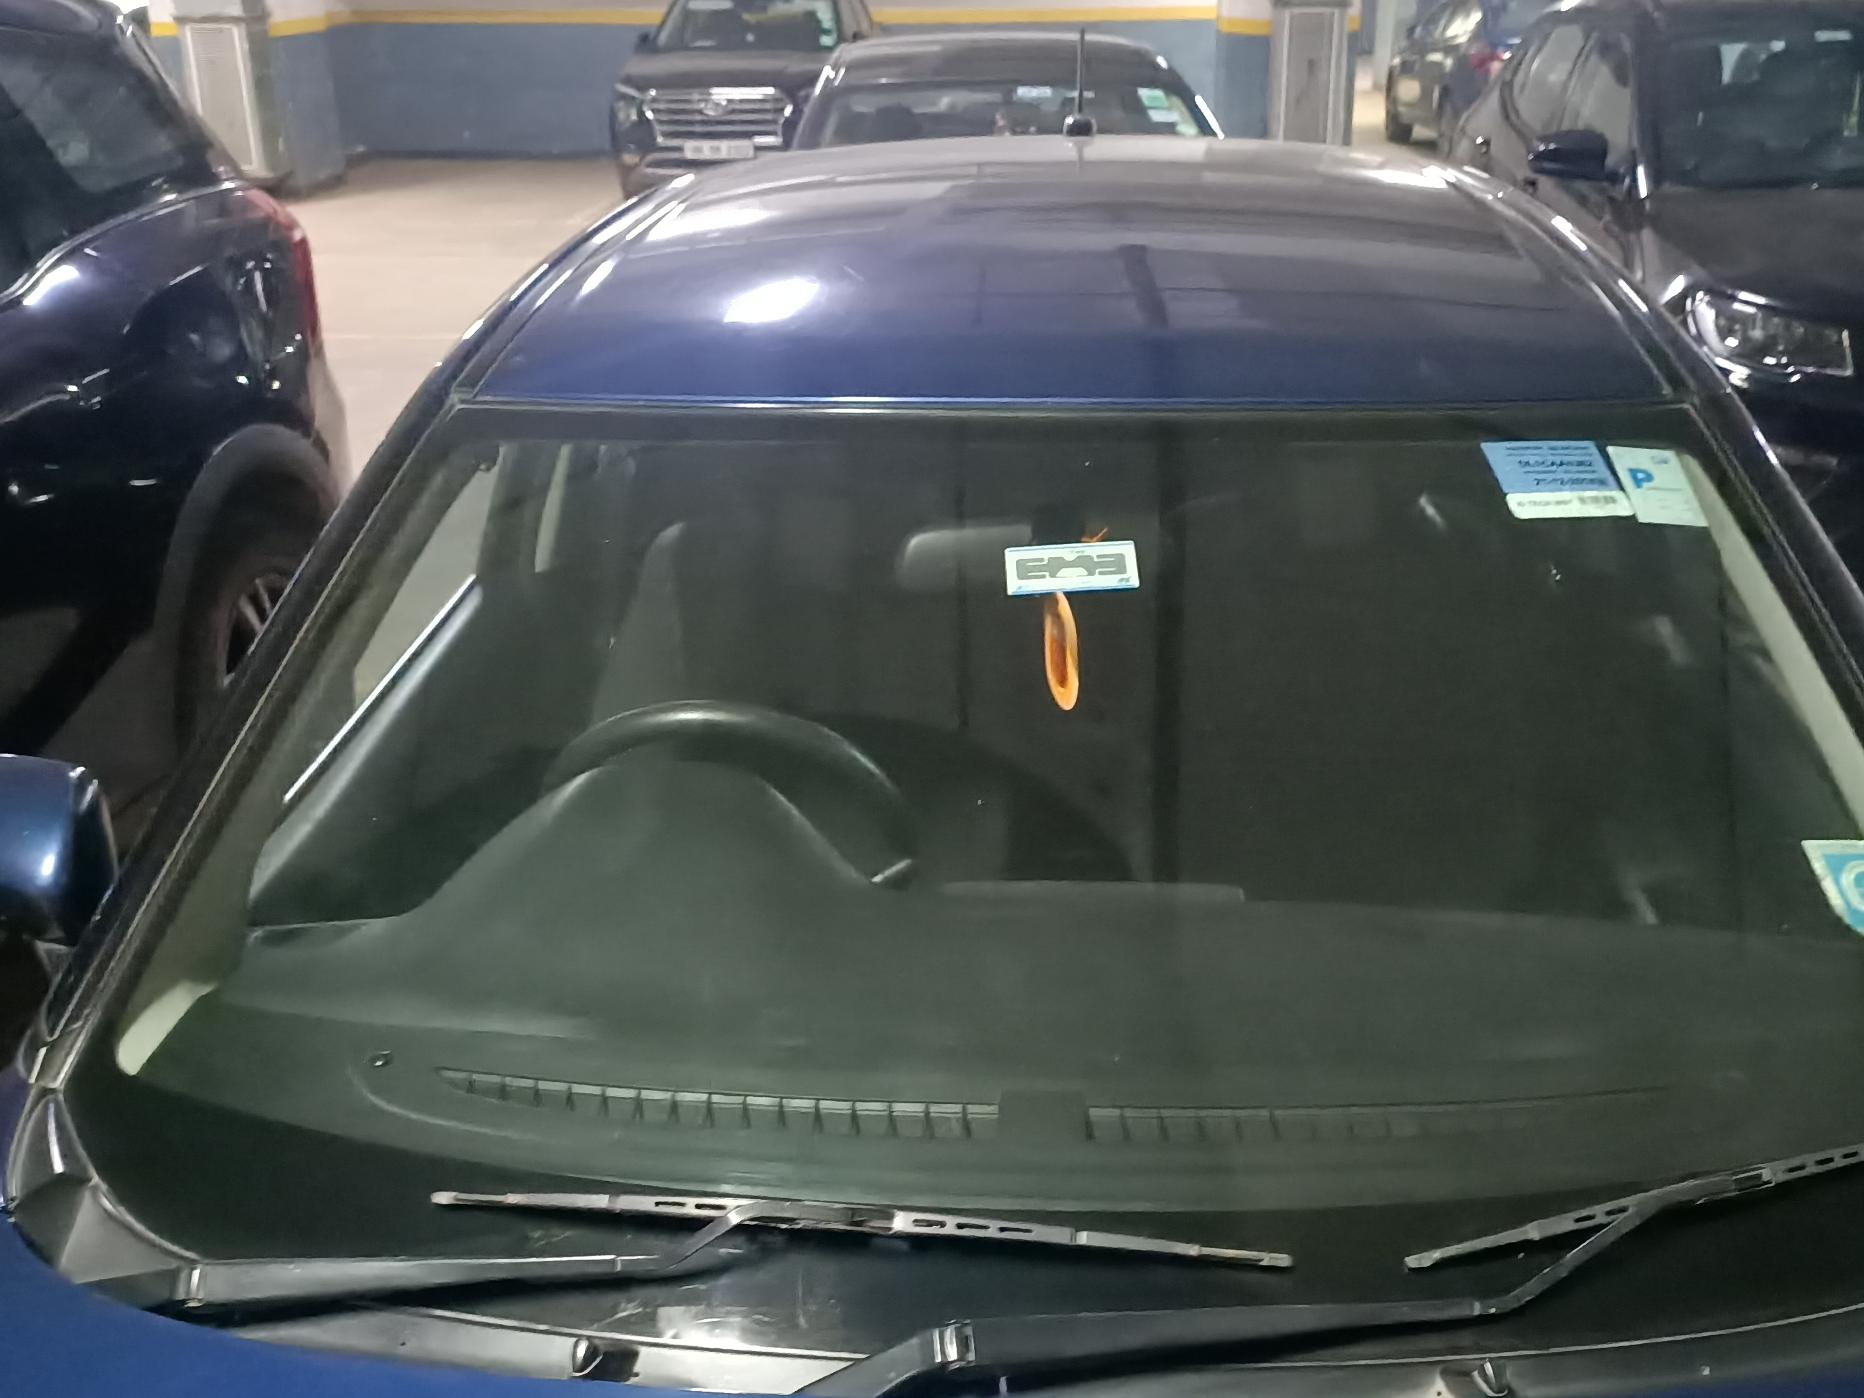FastTag: (998, 529, 1155, 605)
not a FastTag: (1478, 438, 1622, 527), (1791, 811, 1864, 965), (1614, 448, 1719, 533)
